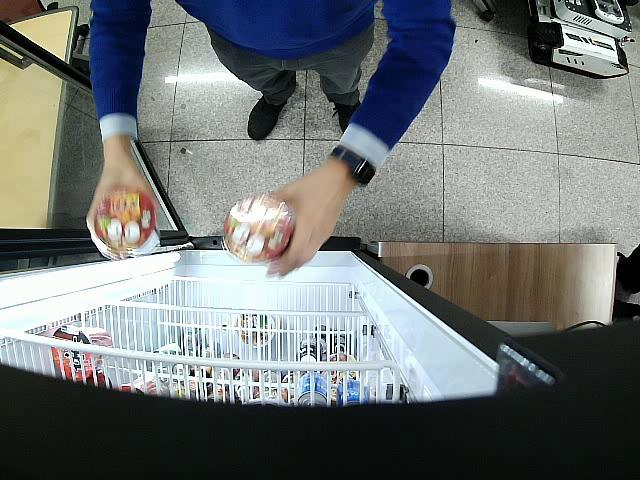00_hand: (266, 161, 351, 279), (86, 150, 160, 226)
06_nuguri_S: (223, 195, 294, 264), (95, 186, 154, 250)
